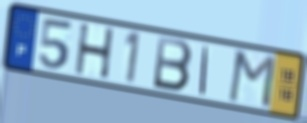1: (123, 31, 141, 87)
5: (36, 17, 75, 71)
B: (151, 34, 194, 95)
H: (74, 22, 117, 82)
I: (198, 44, 211, 98)
M: (226, 49, 278, 111)
